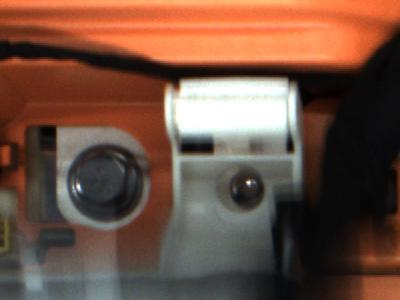nut_b: (57, 140, 151, 228)
